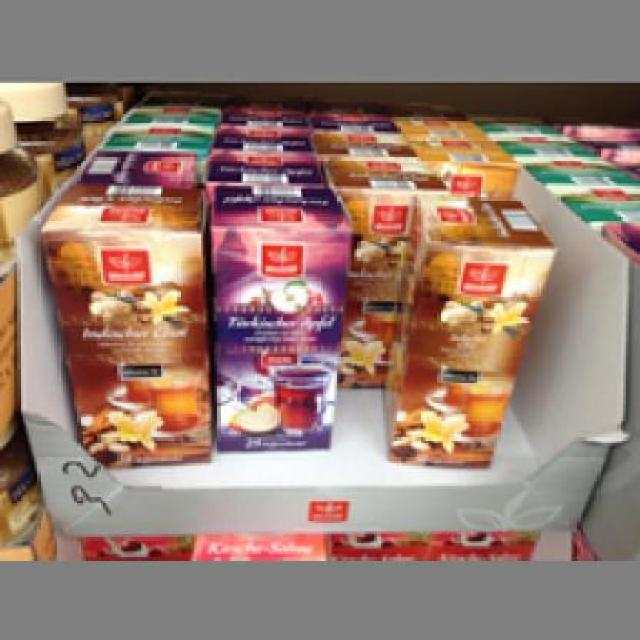Tea: (35, 177, 212, 472), (377, 192, 552, 468), (206, 179, 346, 452)
